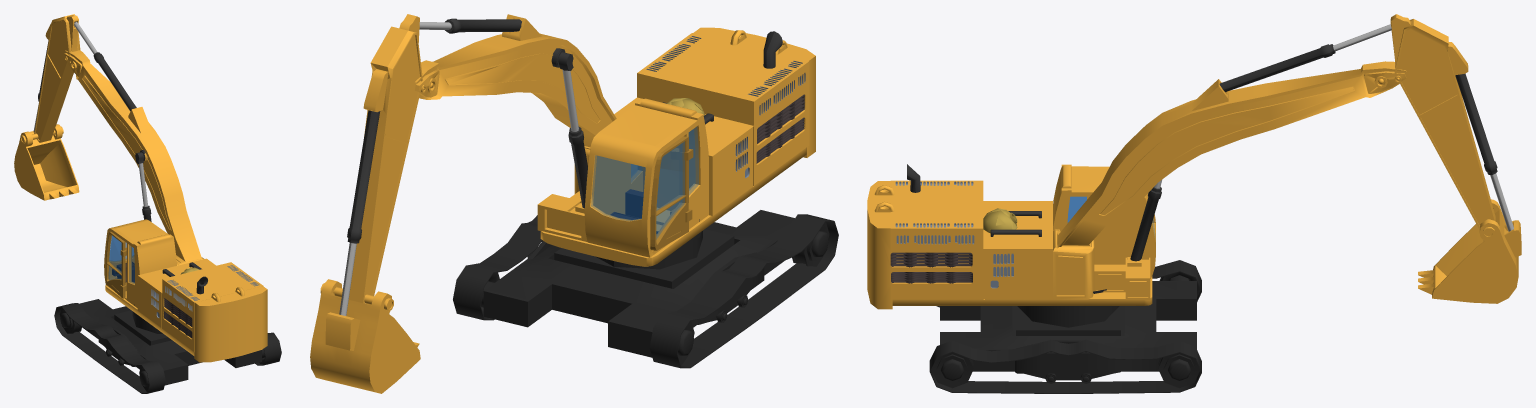
The model's file is differential-drive.glb.
3 views of the same model, side by side, from view 1: azimuth 30°, elevation 25°; view 2: azimuth 150°, elevation 25°; view 3: azimuth 270°, elevation 25° (orthographic). The views are drawn at different scales.
Visible parts, largest first — view 1: main-body, main-base; view 2: main-body, main-base; view 3: main-body, main-base.
Part boxes in pixels (x1,y1,x2,y2): main-body: (14, 14, 267, 362); main-base: (54, 299, 281, 393); main-body: (310, 14, 815, 393); main-base: (453, 210, 838, 368); main-body: (867, 14, 1521, 309); main-base: (929, 260, 1201, 393).
Size of the model in its own units: 0.4058 by 0.7132 by 1.22.
